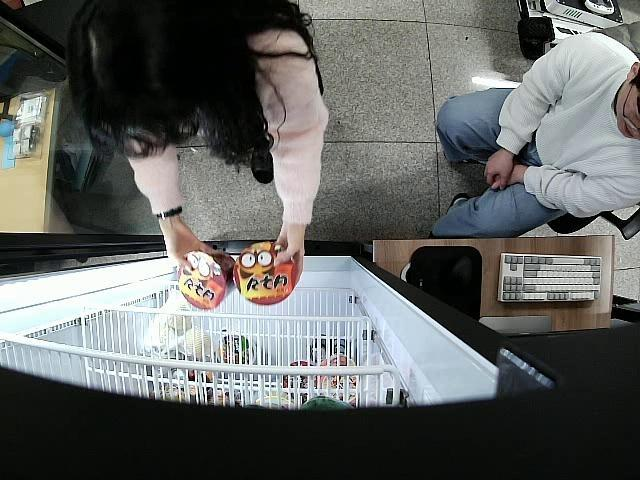05_nuguri_L: (235, 240, 298, 306), (176, 250, 232, 306)
